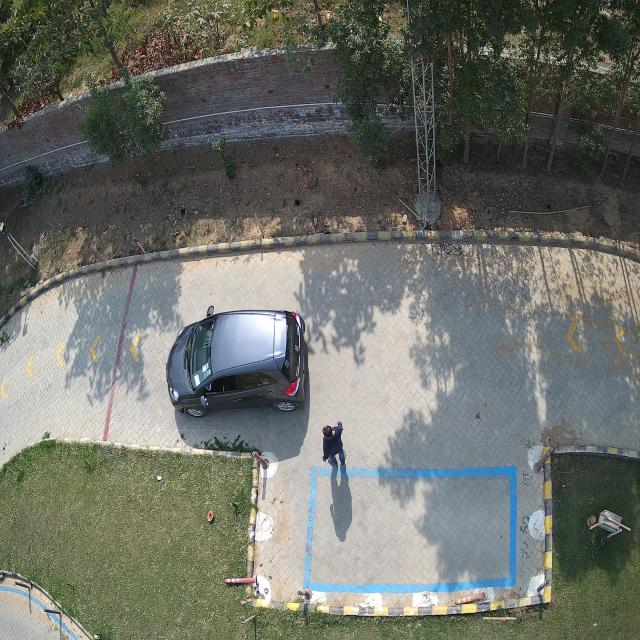car: (166, 310, 309, 417)
